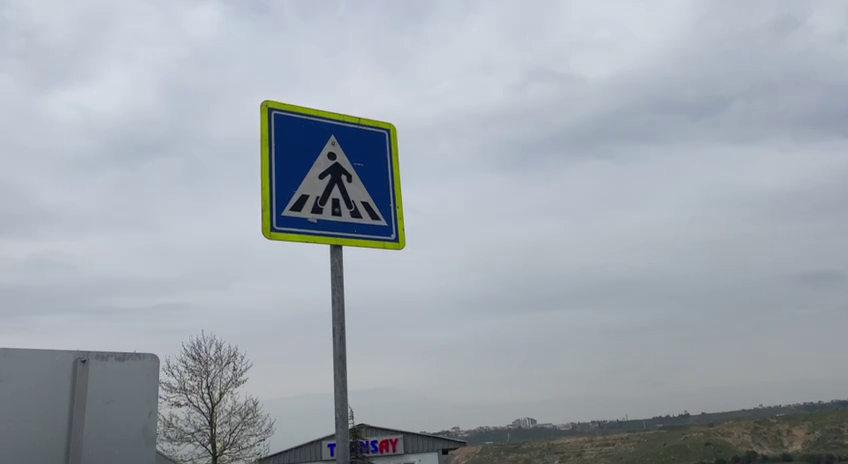pedestrianCrossing: (257, 98, 410, 254)
